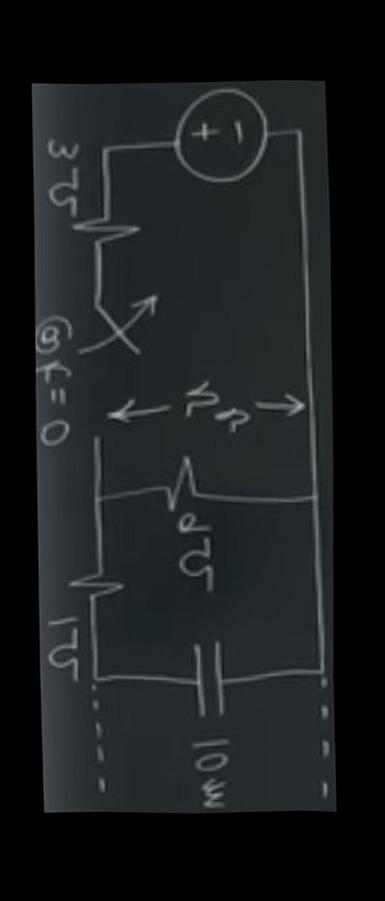Battery: (148, 73, 291, 205)
